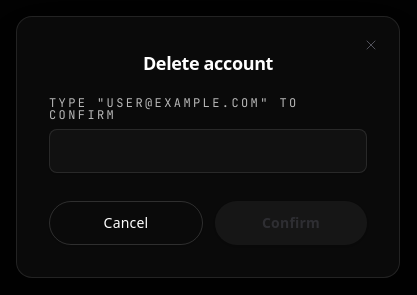
Test: ConfirmModal › keeps confirm disabled until typed text matches (case-insensitive, trimmed)
Later steps or results of the test are not shown.
Check: the button with test id "confirm-modal-confirm" is disabled, box [215,201,367,245]
Type "other@example.com" into the field with test id "confirm-modal-input".
click(208, 151); type("other@example.com")  # box [49,129,367,173]
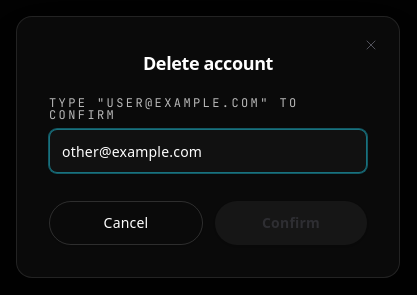
Check: the button with test id "confirm-modal-confirm" is disabled, box [215,201,367,245]
Replace the text in the field with test id "confirm-modal-input" with "  User@Example.COM " at point(208, 151), box [49,129,367,173]
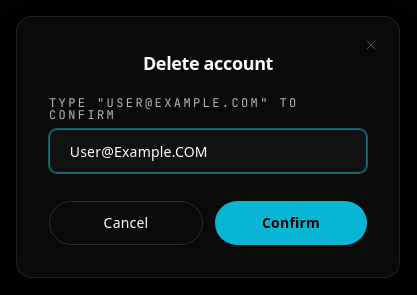
Check: the button with test id "confirm-modal-confirm" is enabled, box [215,201,367,245]
